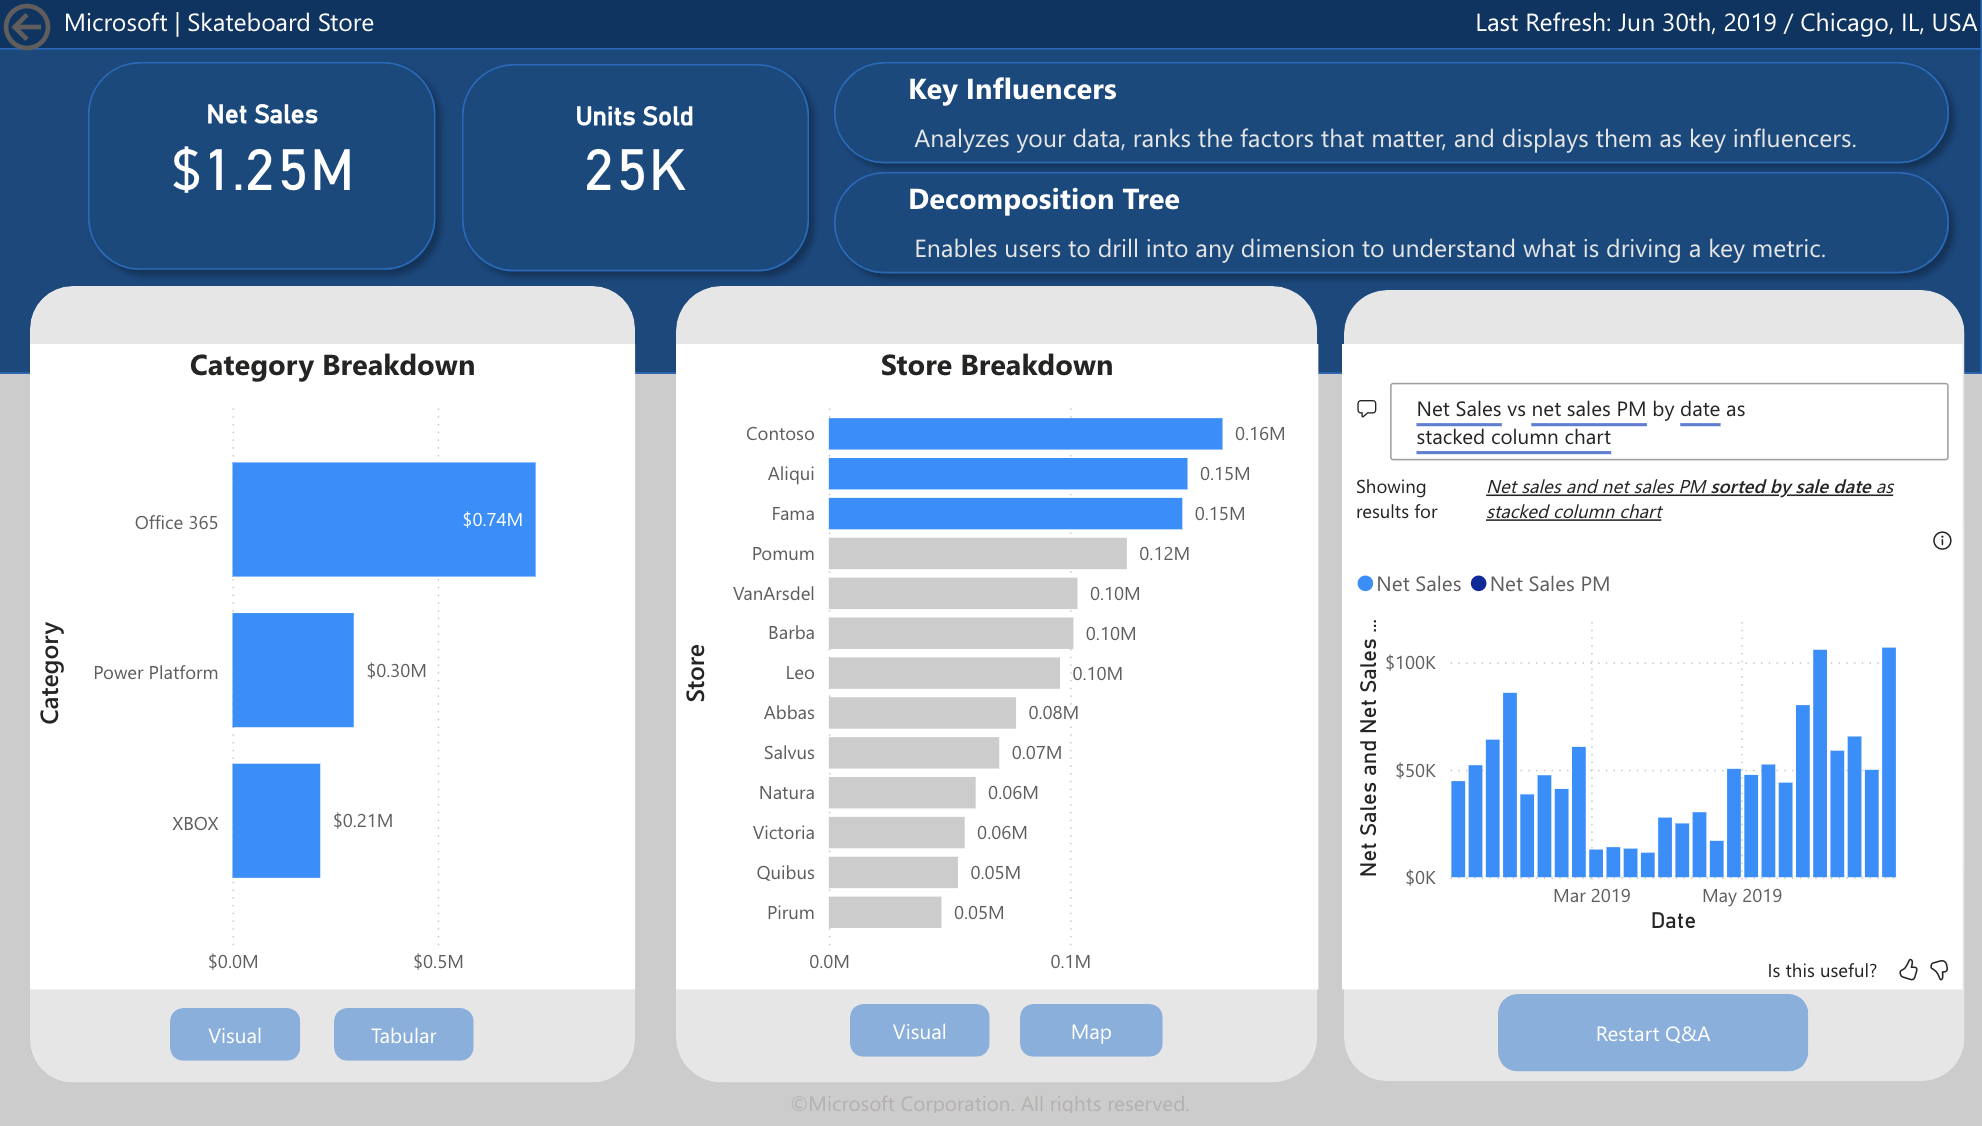

What the dashboard file says about the page in this screenshot:
{"tool":"powerbi","page":{"name":"Net Sales","canvas":[1280,720],"ordinal":0},"visuals":[{"type":"shape","box":[0,0,1280,210.4],"z":0},{"type":"shape","box":[0,34,1280,210],"z":1000},{"type":"shape","box":[21.7,186.7,390,513.3],"z":2000},{"type":"barChart","title":"Category Breakdown","fields":{"Category":["Product.Category","Product.Segment","Product.Product"],"Y":["AnalysisMeasure.Net Sales"]},"box":[22,224,390,416],"z":3000},{"type":"shape","box":[438.3,186.7,413.3,513.3],"z":5000},{"type":"actionButton","box":[112,652,84,34],"z":6000},{"type":"actionButton","box":[218,652,90,34],"z":7000},{"type":"barChart","title":"Store Breakdown","fields":{"Category":["Store.Store"],"Y":["AnalysisMeasure.Sales Amount by Store"]},"box":[438,224,414,416],"z":8000},{"type":"actionButton","box":[550,650,90,34],"z":10000},{"type":"actionButton","box":[660,650,92,34],"z":11000},{"type":"shape","box":[50,34,242,152],"z":12000},{"type":"card","title":"Net Sales","fields":{"Values":["AnalysisMeasure.Net Sales"]},"box":[106,68,132,64],"z":13000},{"type":"actionButton","box":[0,0,100,40],"z":14000},{"type":"shape","box":[291.7,35,241.7,151.7],"z":15000},{"type":"card","title":"Units Sold","fields":{"Values":["AnalysisMeasure.Units Sold"]},"box":[338,70,148,62],"z":16000},{"type":"shape","box":[531.7,33.3,736.7,83.3],"z":17000},{"type":"shape","box":[531.7,105,736.7,83.3],"z":18000},{"type":"shape","box":[868.3,190,400,510],"z":19000},{"type":"qnaVisual","box":[868,224,400,416],"z":20000},{"type":"actionButton","box":[968.3,643.3,200,50],"z":21000},{"type":"actionButton","title":"Key Influencers","box":[588.3,46.7,691.7,55],"z":22000},{"type":"textbox","box":[38.6,0,460,34.3],"z":23000},{"type":"textbox","box":[640,0,641.7,33.3],"z":24000},{"type":"actionButton","title":"Decomposition Tree","box":[588.3,116.7,691.7,55],"z":25000},{"type":"actionButton","box":[0,700,1281.1,21.1],"z":26000}]}

Visuals, with their boxes in screenshot pixels (x1, y1, x2, y2), scaled from the page's 1280x720 canvas onto the 1982x1126 screenshot:
shape: <box>0,0,1981,329</box>
shape: <box>0,53,1981,382</box>
shape: <box>34,292,637,1095</box>
"Category Breakdown" barChart: <box>34,350,638,1001</box>
shape: <box>679,292,1319,1095</box>
actionButton: <box>173,1020,303,1073</box>
actionButton: <box>338,1020,477,1073</box>
"Store Breakdown" barChart: <box>678,350,1319,1001</box>
actionButton: <box>852,1017,991,1070</box>
actionButton: <box>1022,1017,1164,1070</box>
shape: <box>77,53,452,291</box>
"Net Sales" card: <box>164,106,369,206</box>
actionButton: <box>0,0,155,63</box>
shape: <box>452,55,826,292</box>
"Units Sold" card: <box>523,109,753,206</box>
shape: <box>823,52,1964,182</box>
shape: <box>823,164,1964,294</box>
shape: <box>1345,297,1964,1095</box>
qnaVisual: <box>1344,350,1963,1001</box>
actionButton: <box>1499,1006,1809,1084</box>
"Key Influencers" actionButton: <box>911,73,1981,159</box>
textbox: <box>60,0,772,54</box>
textbox: <box>991,0,1981,52</box>
"Decomposition Tree" actionButton: <box>911,183,1981,269</box>
actionButton: <box>0,1095,1981,1125</box>
